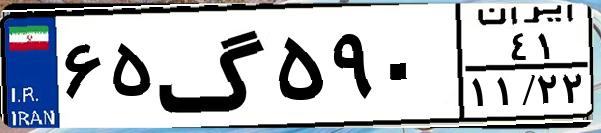0: (385, 28, 445, 110)
1: (537, 27, 568, 80), (470, 70, 495, 125), (495, 70, 520, 125)
2: (560, 70, 590, 125), (535, 70, 560, 125)
4: (508, 27, 537, 80)
5: (270, 28, 330, 110), (110, 28, 156, 98)
6: (57, 26, 110, 100)
9: (330, 28, 385, 110)
گ: (156, 12, 270, 120)
